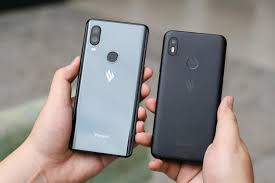vsmart: (68, 14, 148, 161), (150, 27, 227, 168)
